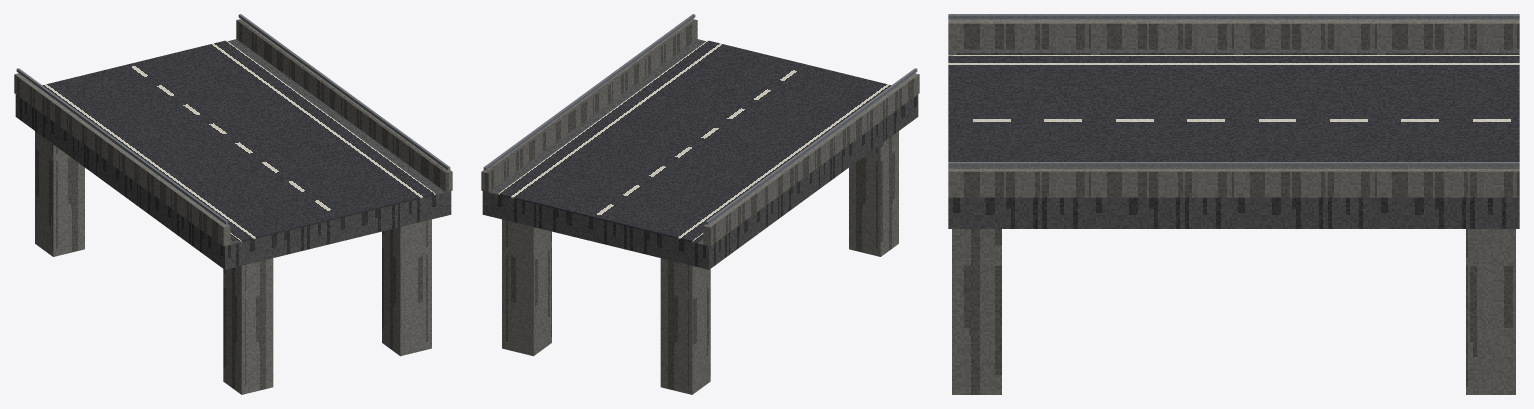
Rendered from env_flyover.glb.
3 views of the same model, side by side, from view 1: azimuth 30°, elevation 25°; view 2: azimuth 150°, elevation 25°; view 3: azimuth 270°, elevation 25° (orthographic). The views are drawn at different scales.
Parts seen in each view (by area): view 1: env_flyover; view 2: env_flyover; view 3: env_flyover.
Boxes of the visible parts, x1,y1,x2,y2 form: env_flyover: (14,14,452,394); env_flyover: (481,14,919,394); env_flyover: (948,14,1519,394).
Size of the model in its own units: 10.1 by 7.51 by 16.
4 materials, 4 textured.
